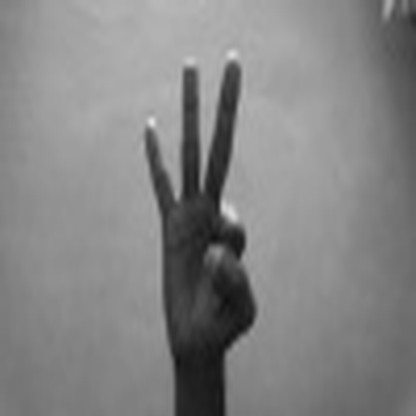f: (118, 43, 271, 352)
